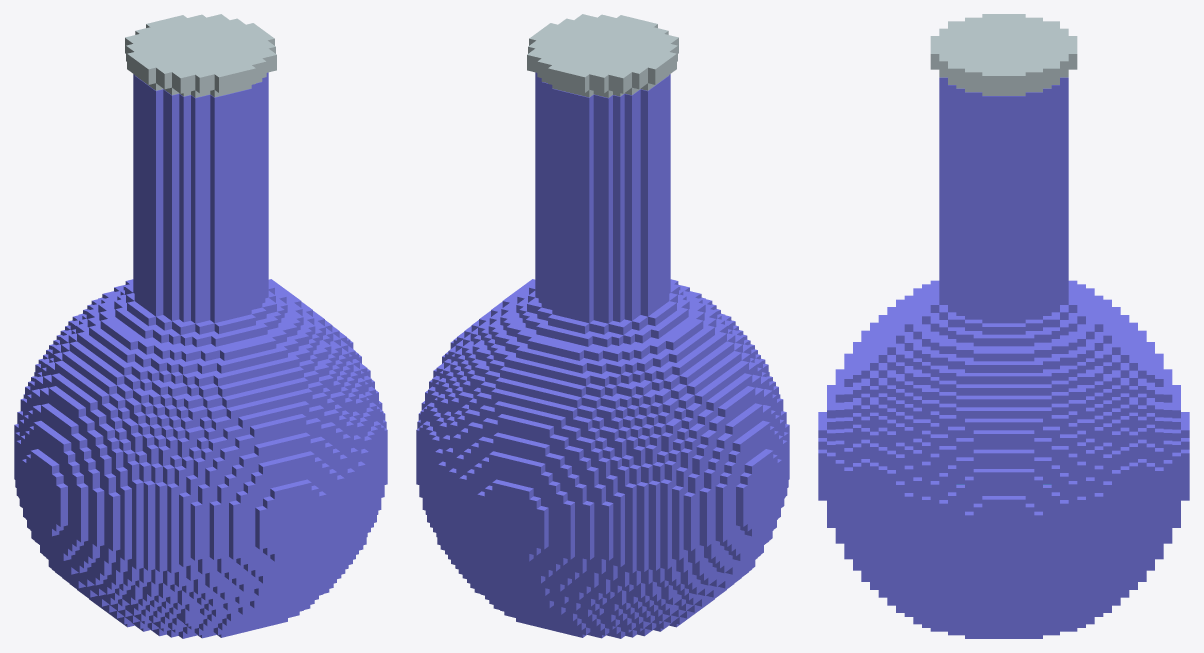
File: Flask6-1-1.fbx
3 renders of one model, left to right at view 1: azimuth 30°, elevation 25°; view 2: azimuth 150°, elevation 25°; view 3: azimuth 270°, elevation 25°, orthographic.
Parts seen in each view (by area): view 1: Flask6-1-1.001, Flask6-1-1; view 2: Flask6-1-1.001, Flask6-1-1; view 3: Flask6-1-1.001, Flask6-1-1.
Boxes of the visible parts, x1,y1,x2,y2 form: Flask6-1-1.001: (14,72,387,638); Flask6-1-1: (125,14,276,97); Flask6-1-1.001: (416,72,789,638); Flask6-1-1: (527,14,678,97); Flask6-1-1.001: (818,77,1189,638); Flask6-1-1: (930,14,1077,95).
Size of the model in its own units: 4.3 by 7 by 4.3.
